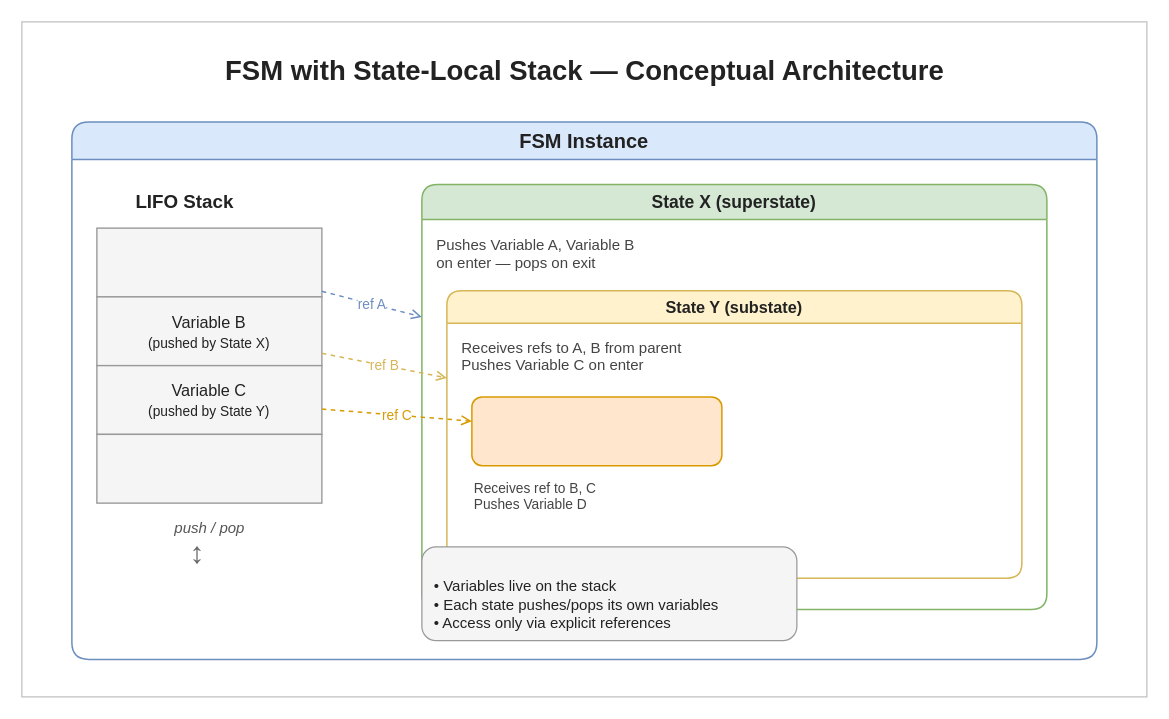
The diagram is 1169 pixels wide and 719 high, and some of its shapes have lost their labels. The centre of each missing label's shape, as x and y in pixels:
State Z: [596,431]
Variable A (pushed by State X): [209,262]
Variable D (pushed by State Z): [209,468]
